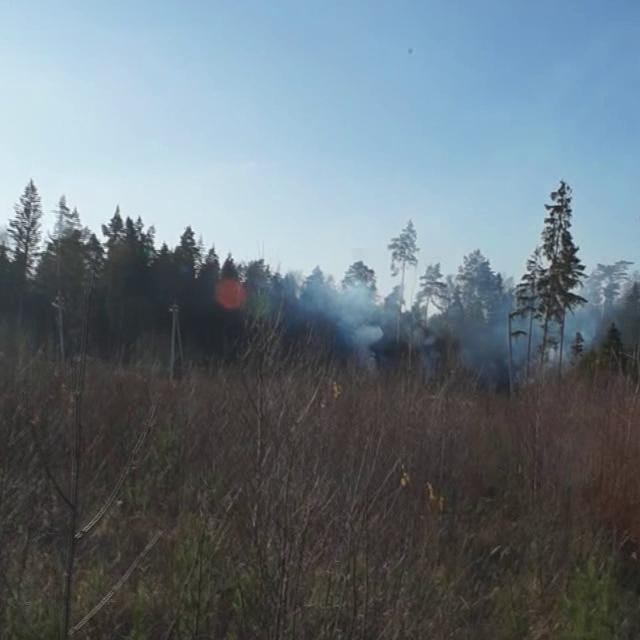Smoke: (299, 247, 634, 389)
